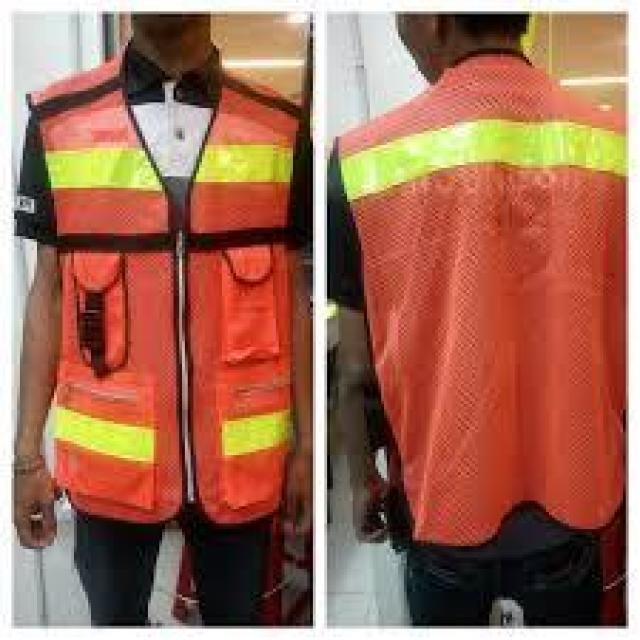vest: (340, 81, 636, 550), (33, 70, 286, 536)
